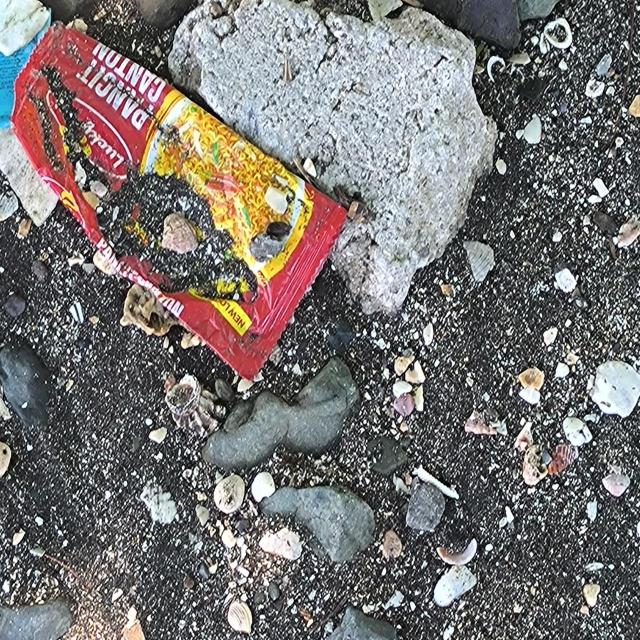plastic_waste: (9, 19, 351, 385)
